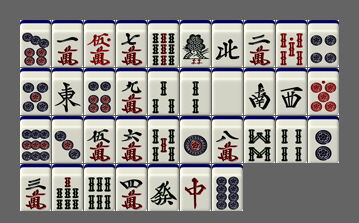0m: (84, 20, 115, 67)
0p: (308, 68, 339, 115)
0s: (276, 20, 307, 67)
1m: (52, 20, 83, 67)
1p: (180, 116, 211, 163)
1s: (180, 20, 211, 67)
1z: (52, 68, 83, 115)
2m: (244, 20, 275, 67)
2p: (308, 116, 339, 163)
2s: (180, 68, 211, 115)
2z: (244, 68, 275, 115)
3m: (20, 164, 51, 211)
3p: (52, 116, 83, 163)
3s: (148, 68, 179, 115)
3z: (276, 68, 307, 115)
4m: (116, 164, 147, 211)
4p: (308, 20, 339, 67)
4s: (276, 116, 307, 163)
4z: (212, 20, 243, 67)
5m: (84, 116, 115, 163)
5p: (20, 68, 51, 115)
5s: (148, 116, 179, 163)
5z: (212, 68, 243, 115)
6m: (116, 116, 147, 163)
6p: (84, 68, 115, 115)
6s: (84, 164, 115, 211)
6z: (148, 164, 179, 211)
7m: (116, 20, 147, 67)
7p: (20, 20, 51, 67)
7s: (52, 164, 83, 211)
7z: (180, 164, 211, 211)
8m: (212, 116, 243, 163)
8p: (212, 164, 243, 211)
8s: (244, 116, 275, 163)
9m: (116, 68, 147, 115)
9p: (20, 116, 51, 163)
9s: (148, 20, 179, 67)
